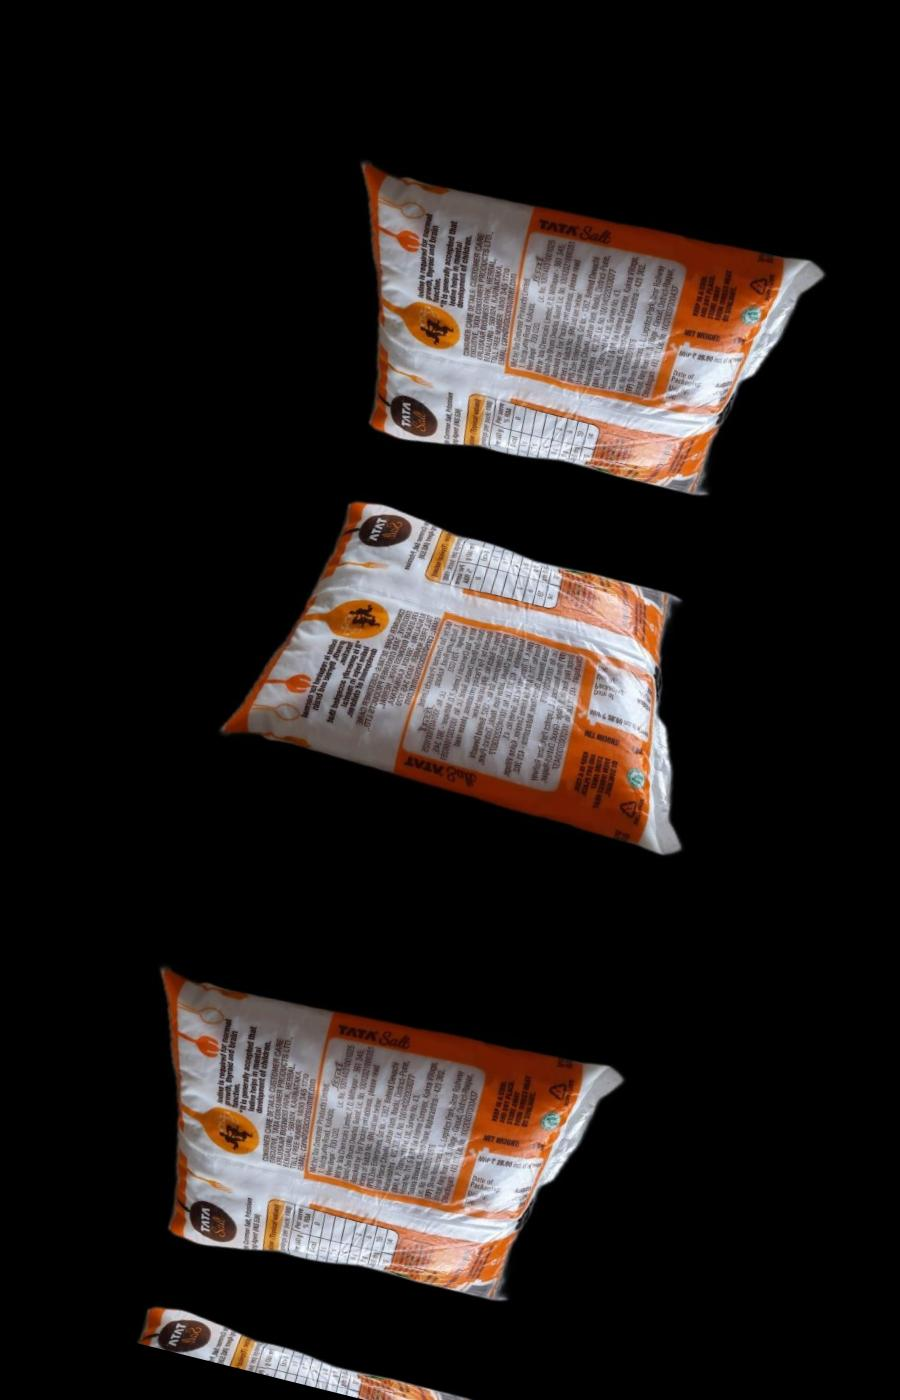Tata Salt Vacuum Evaporated Iodised Salt 1 kg Pouch: (289, 143, 821, 532), (88, 950, 620, 1339), (207, 471, 739, 860)
